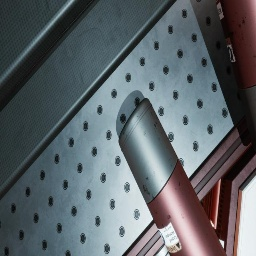NitrogenTank ,: (118, 98, 227, 256), (215, 0, 256, 152)
